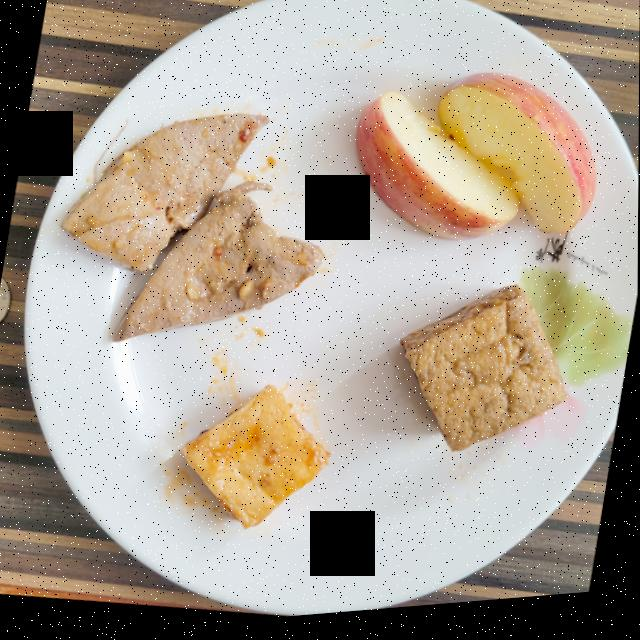apple -sliced-: (356, 81, 596, 248)
creamy tofu: (183, 390, 330, 533)
egg tofu: (400, 294, 567, 459)
pig liver: (61, 117, 324, 344)
